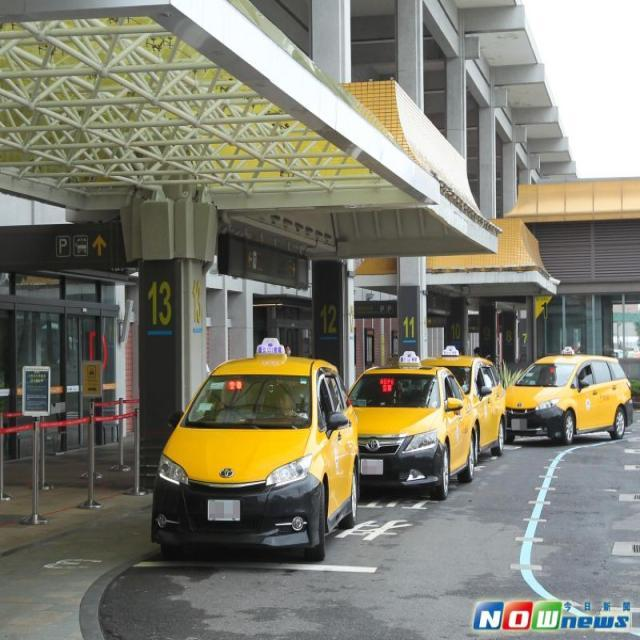Door: (350, 365, 474, 500), (506, 353, 634, 444)
Taxi: (151, 345, 358, 561)
